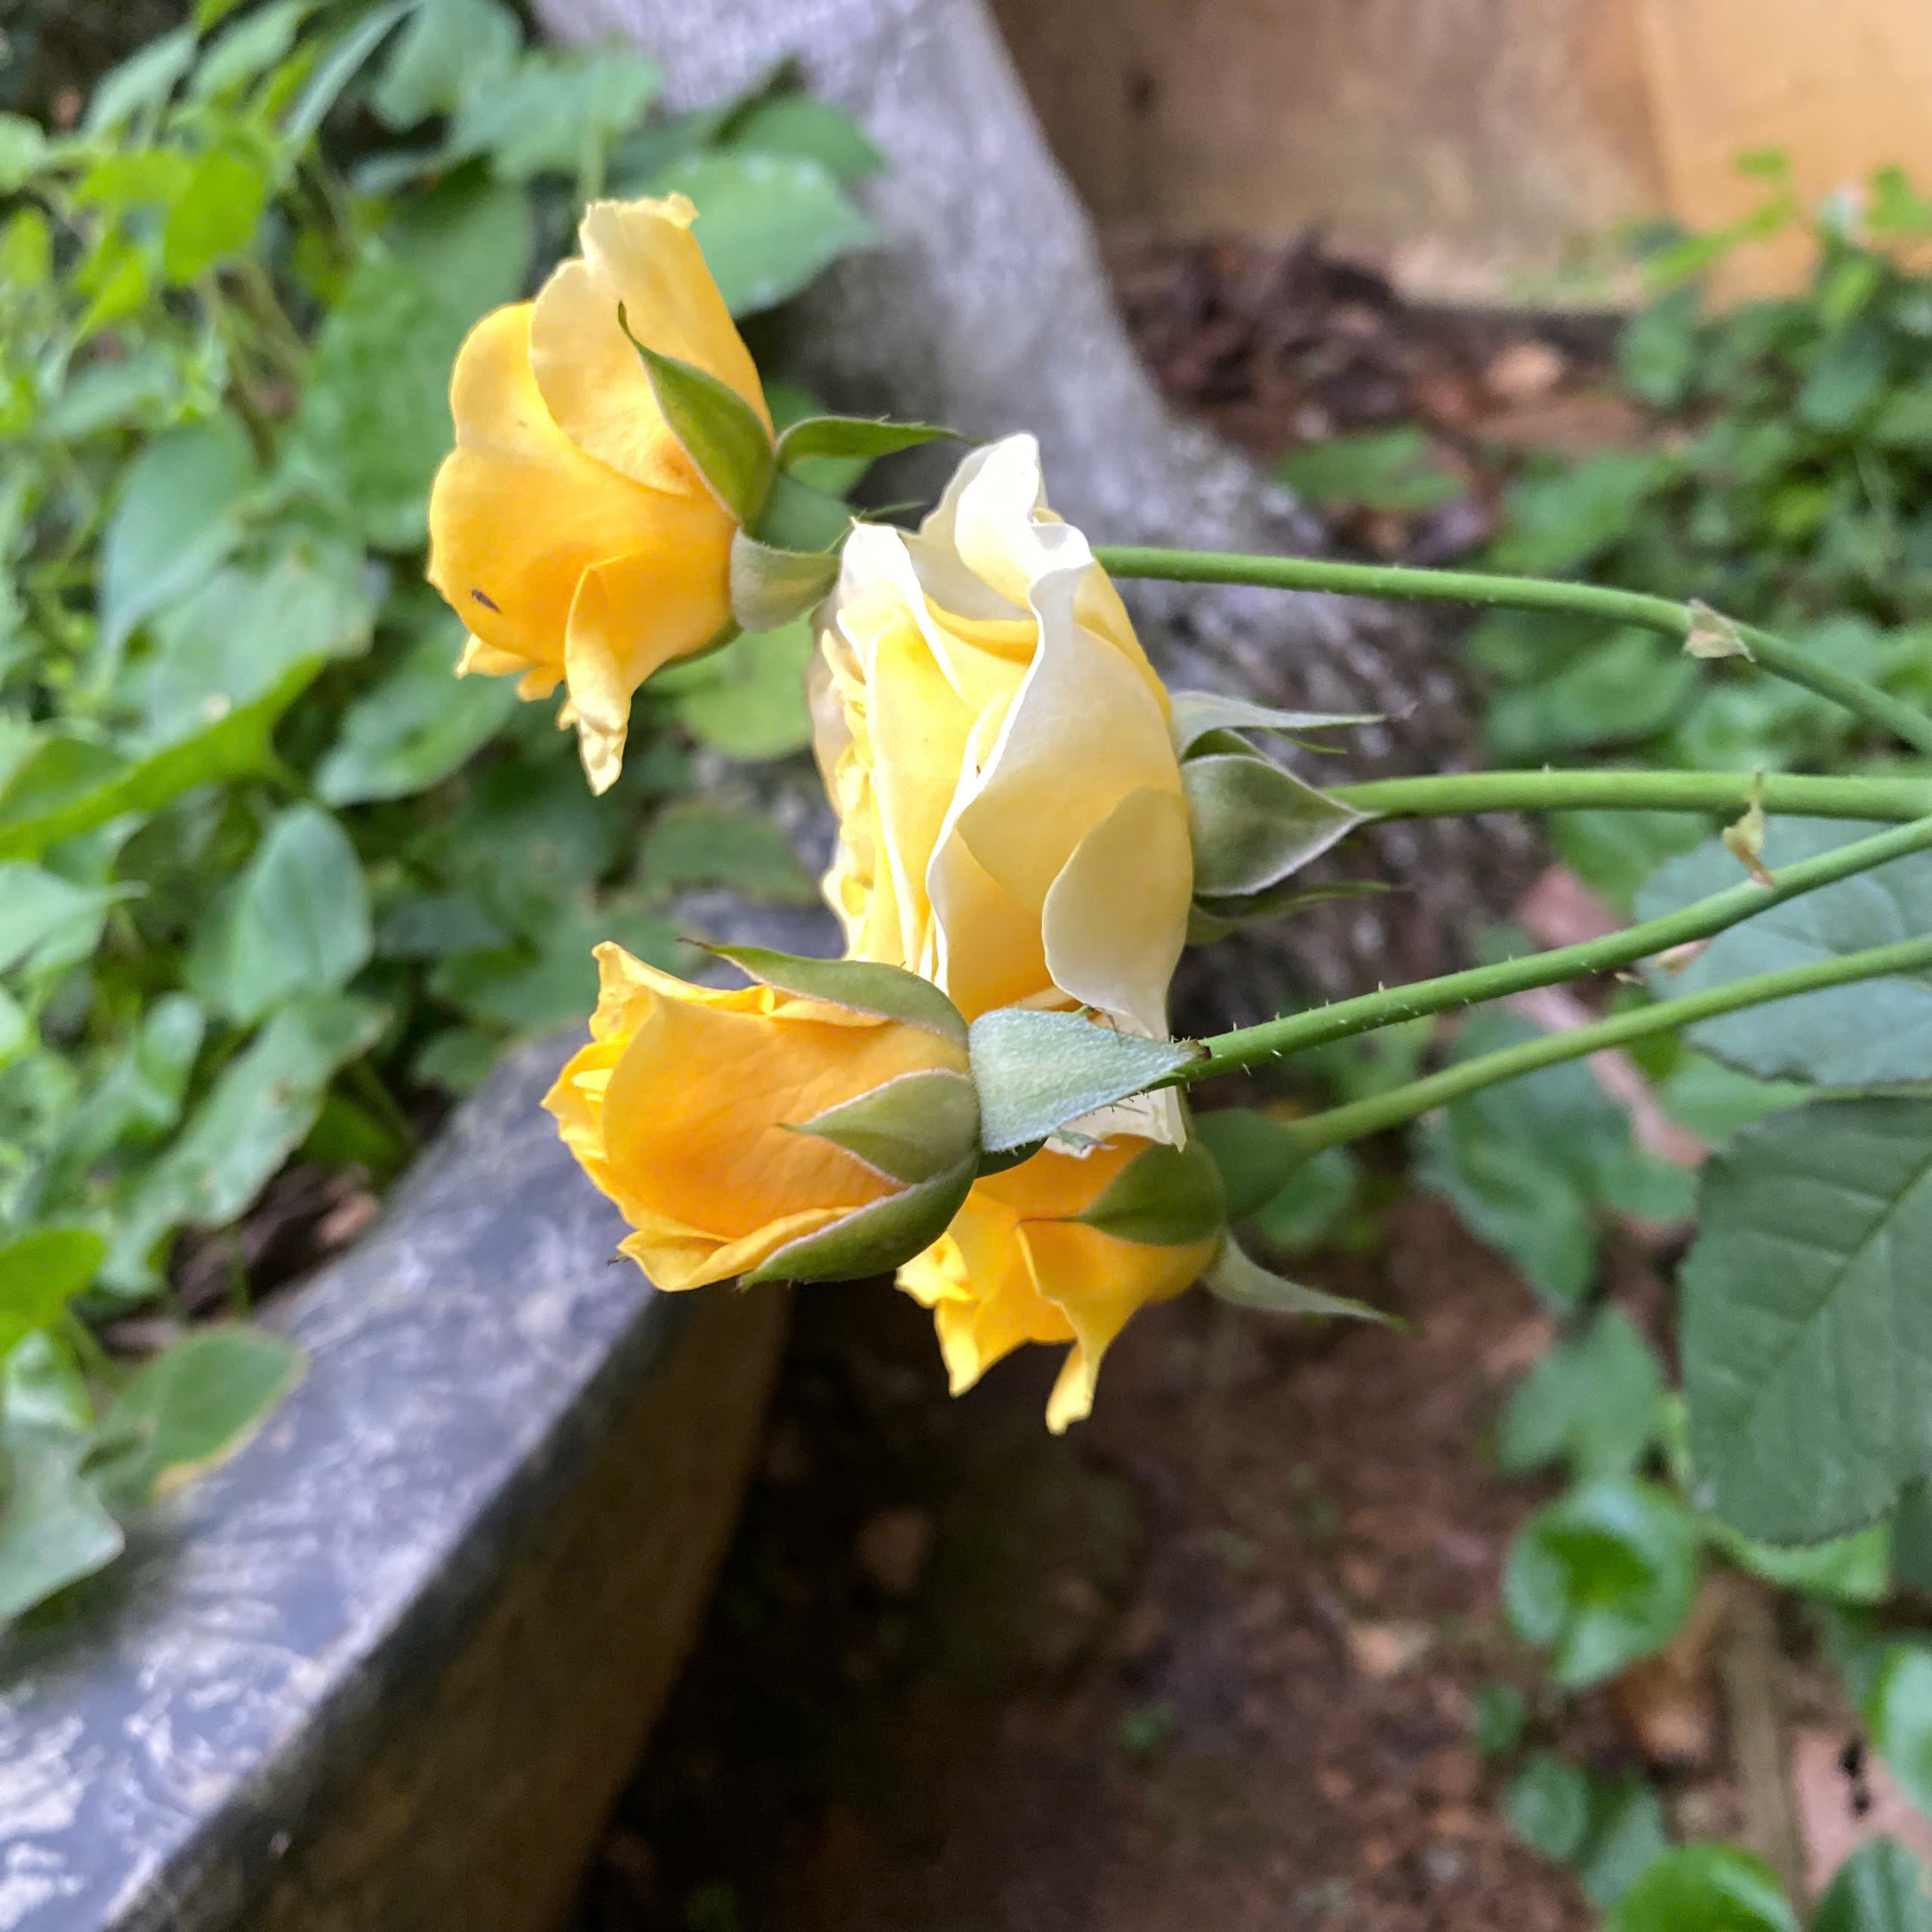hoa_thuoc_duoc: (336, 131, 1932, 1435)
